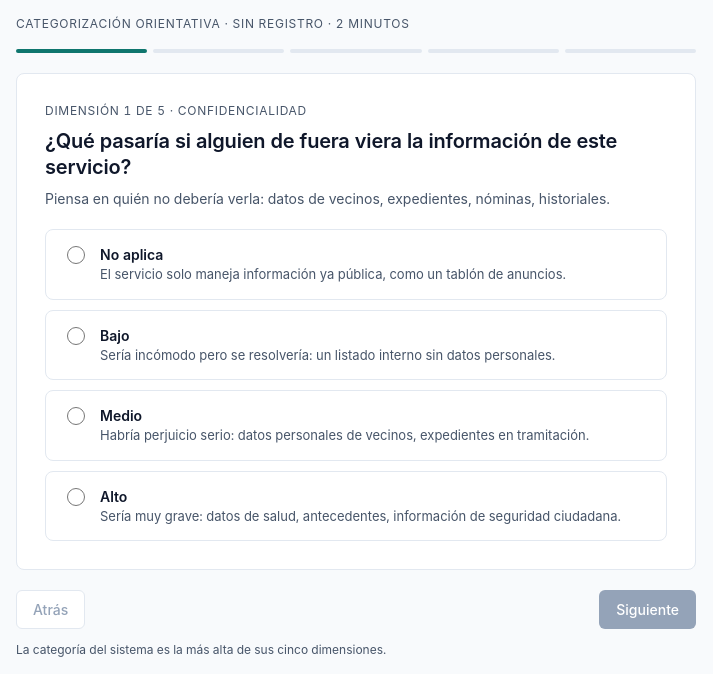
Test case: CategorizacionView › desbloquea el botón al elegir una opción
This screenshot has width=713, height=674.
Click the 2nd radio button at (76, 336), box [67, 326, 85, 344]
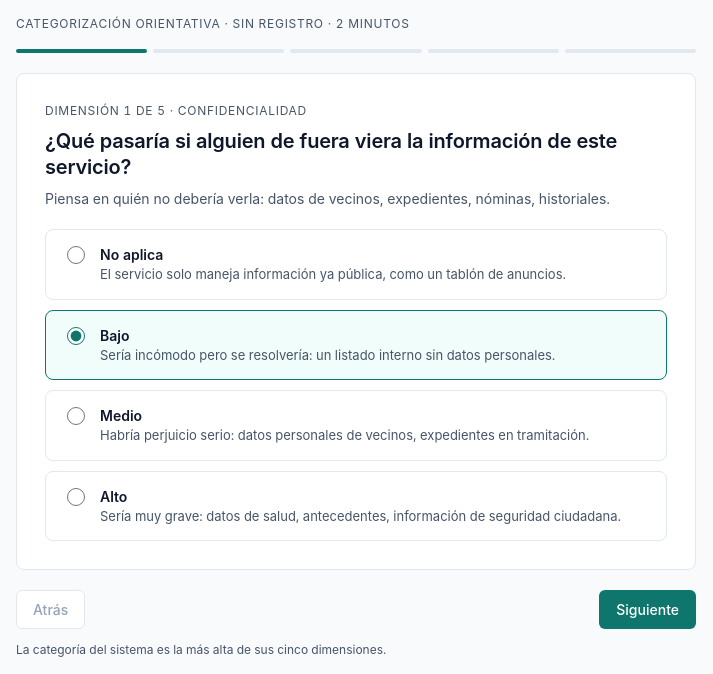
Expected: the button "Siguiente" is enabled, [599, 590, 696, 629]
